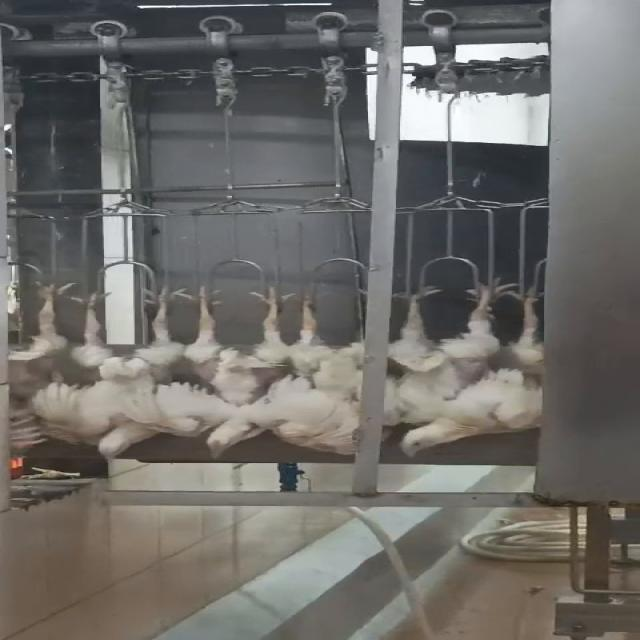chicken: (379, 273, 512, 461), (78, 278, 192, 462), (180, 278, 294, 460), (0, 273, 88, 450), (281, 279, 368, 457), (502, 282, 550, 441)
